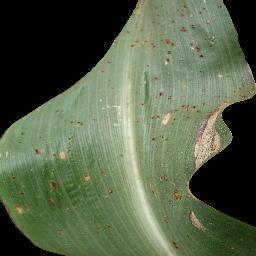Corn_Common_Rust: (117, 0, 226, 67), (148, 101, 242, 146), (188, 146, 228, 174), (82, 48, 112, 78), (187, 209, 209, 233), (46, 177, 60, 211), (14, 190, 30, 215), (155, 88, 178, 102), (65, 117, 87, 130), (50, 147, 67, 162), (100, 183, 117, 197), (30, 143, 45, 157), (156, 170, 172, 183), (14, 129, 27, 145), (172, 188, 185, 203), (157, 214, 172, 227), (170, 239, 182, 253), (76, 171, 92, 181), (152, 74, 164, 85), (101, 223, 112, 235), (145, 187, 158, 195), (53, 106, 64, 115), (4, 174, 18, 181)
